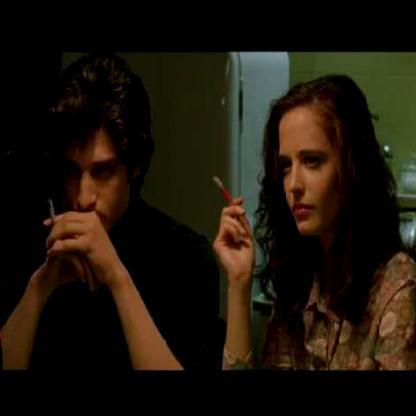cigarette: (213, 172, 234, 208), (44, 196, 57, 232)
person: (0, 56, 205, 373), (257, 88, 415, 374)
